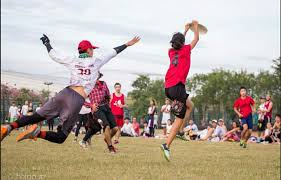disc: (186, 19, 210, 36)
